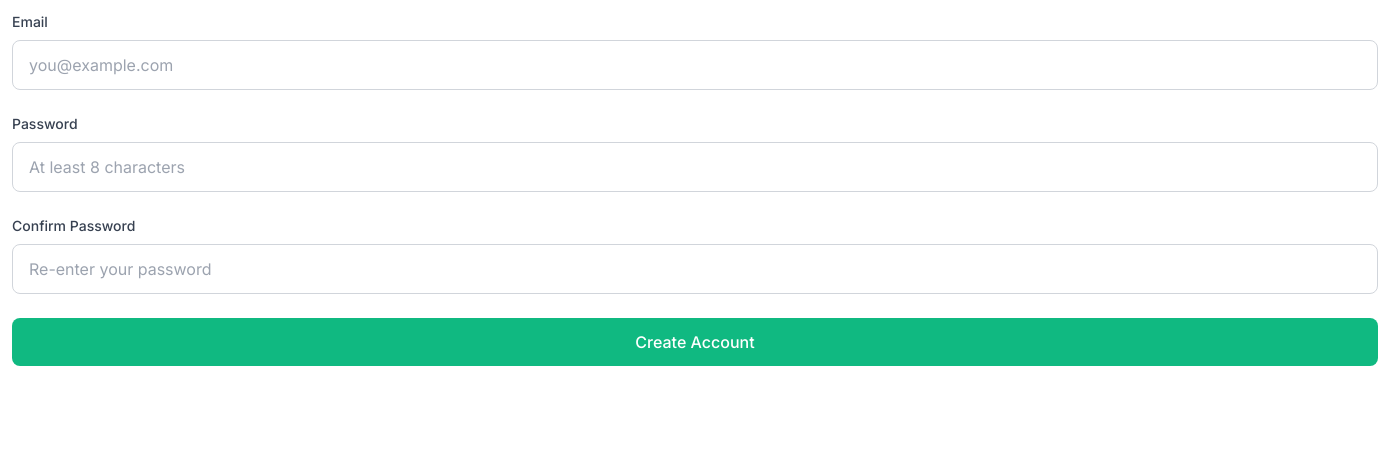
Scenario: SignupForm Component › should show validation error for short password
In the password field labelled "Password": (695, 167) [12,142,1378,192], type "short"
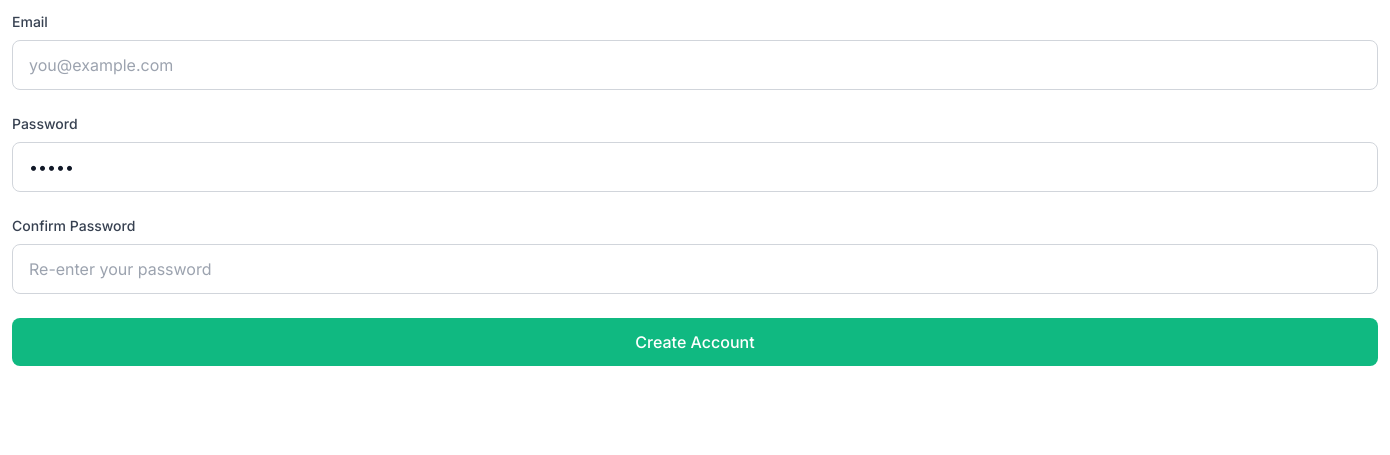
Click the button "Create Account": (695, 342) [12,318,1378,366]
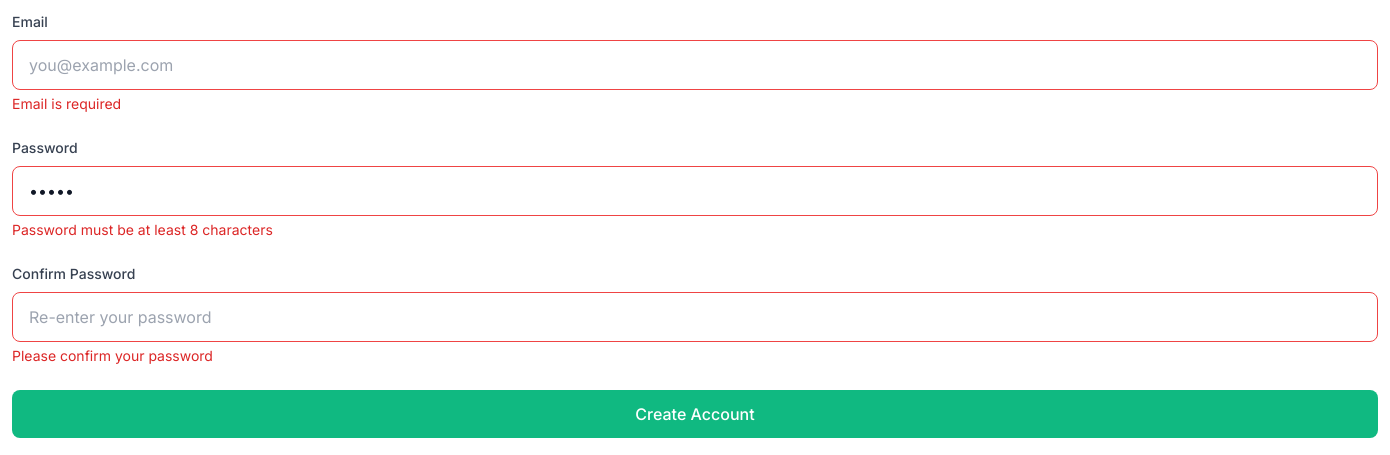
Now the text "Password must be at least 8 characters" is shown, box [12,221,273,238]
